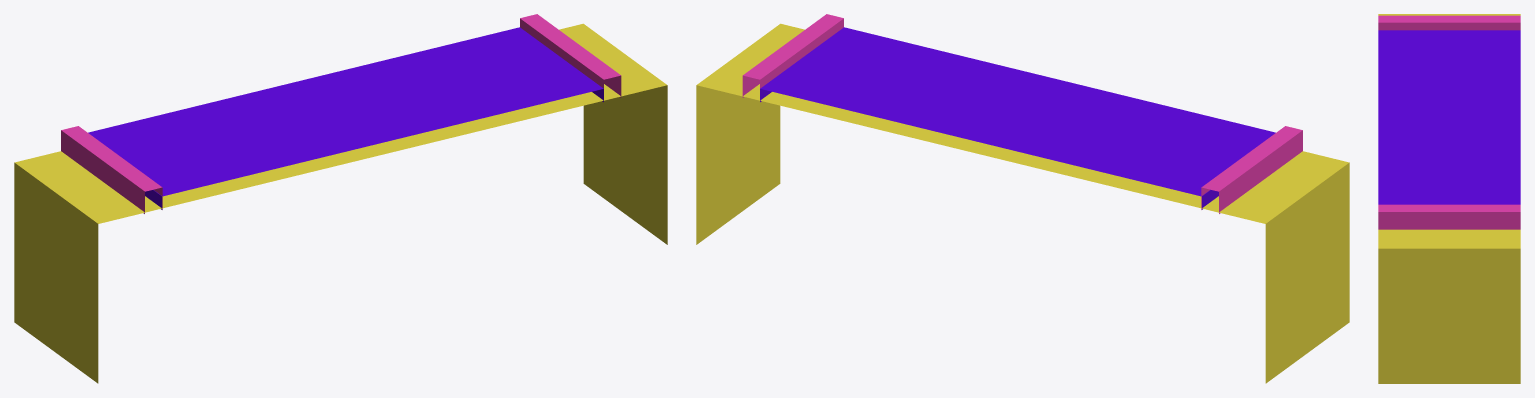
The model's file is zeminV3.fbx.
3 views of the same model, side by side, from view 1: azimuth 30°, elevation 25°; view 2: azimuth 150°, elevation 25°; view 3: azimuth 270°, elevation 25° (orthographic). The views are drawn at different scales.
Visible parts, largest first — view 1: Cube.003; view 2: Cube.003; view 3: Cube.003.
Part boxes in pixels (x1,y1,x2,y2): Cube.003: (14,14,667,383); Cube.003: (696,14,1349,383); Cube.003: (1378,14,1520,383).
Size of the model in its own units: 782 by 237 by 200.
